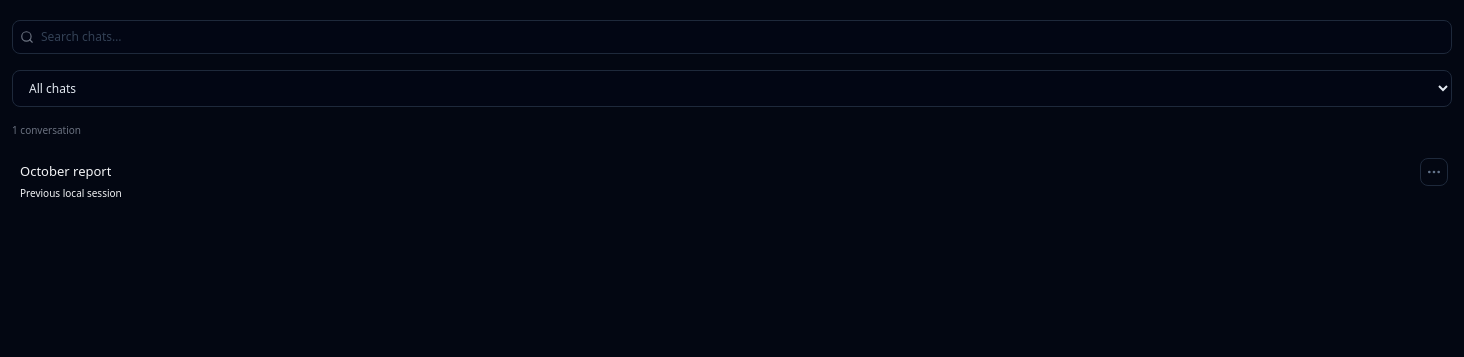
Scenario: conversation library controls › closes when focus or a pointer leaves the menu without reclaiming outside focus
This screenshot has width=1464, height=357.
Step 1. Click the button named "Options for October report" → (1434, 172), box [1420,158,1448,186]
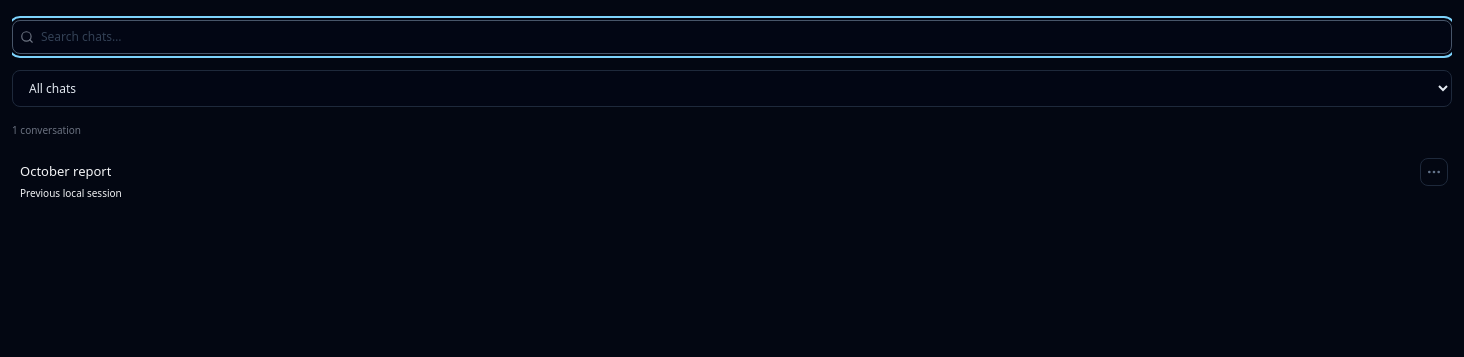
Step 2. Click the button named "Options for October report" → (1434, 172), box [1420,158,1448,186]
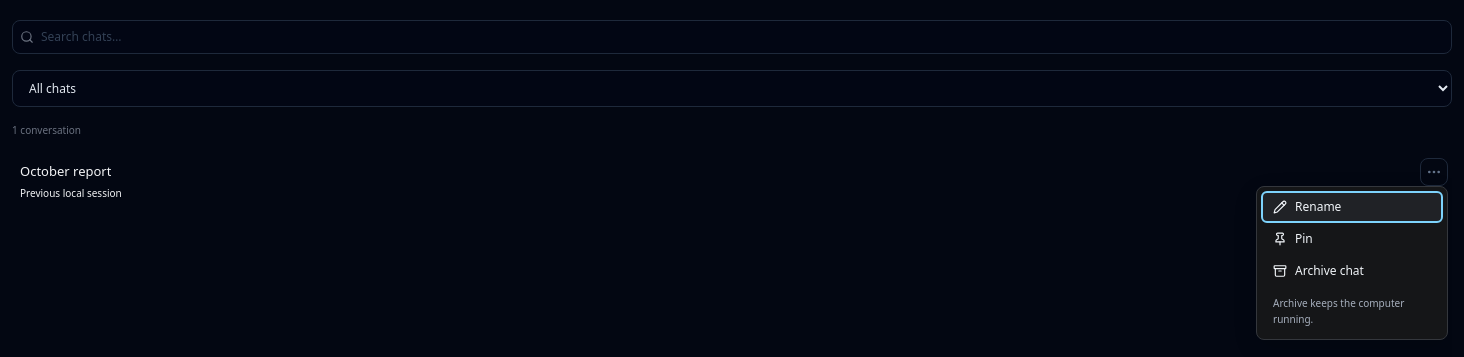
Step 3. Press the mouse on the search field named "Search conversations" → (732, 37), box [12,20,1452,54]
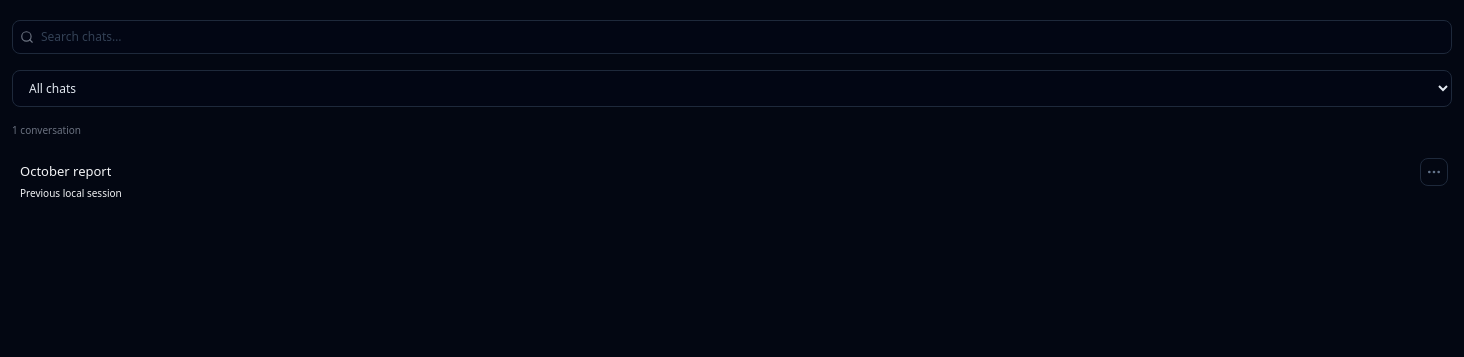
Expected: the menu is gone
